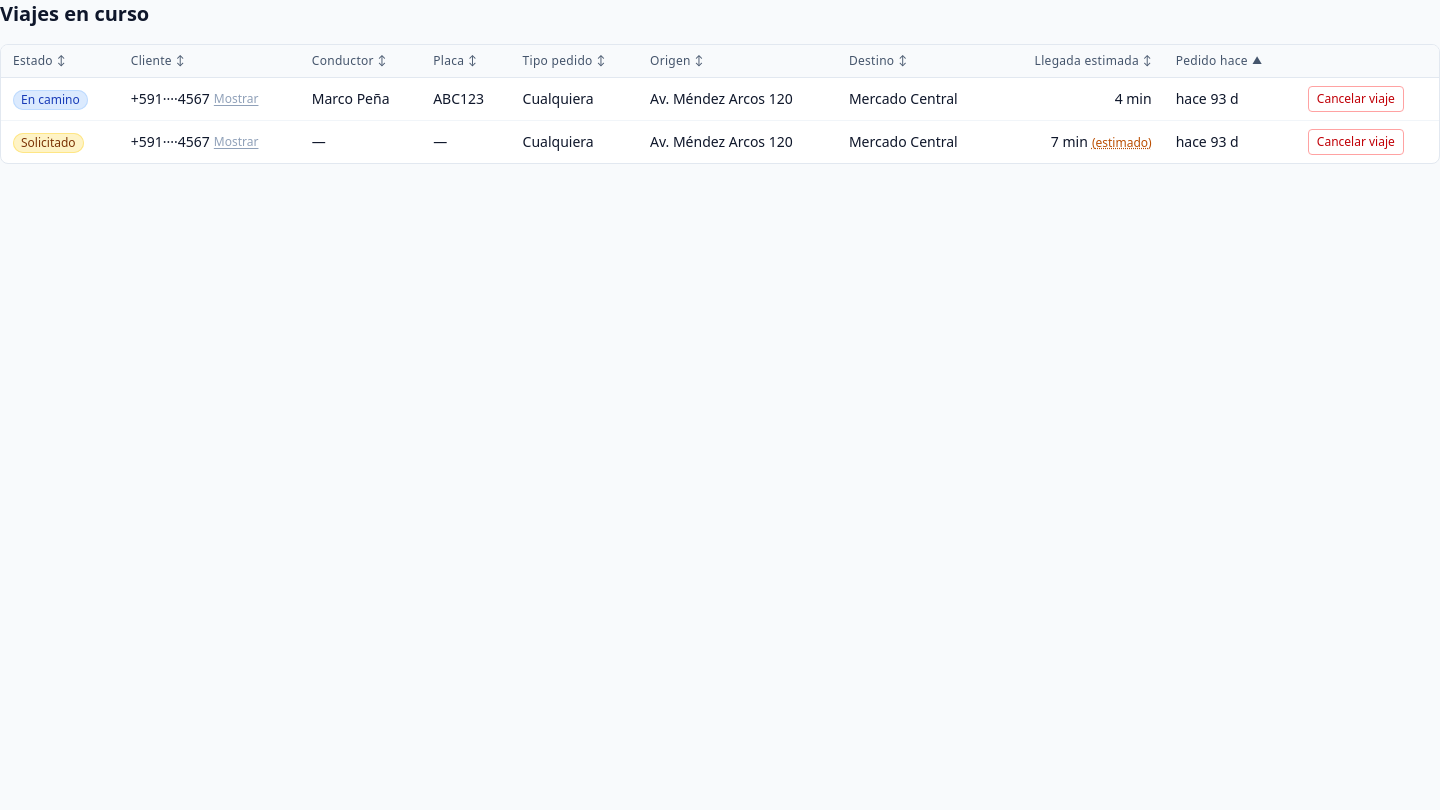
Test case: cancelación forzada › un 409 informa que el viaje ya terminó, no un error genérico
Click the button "Cancelar viaje" in the row of "En camino" at (1356, 99), box [1308,86,1404,112]
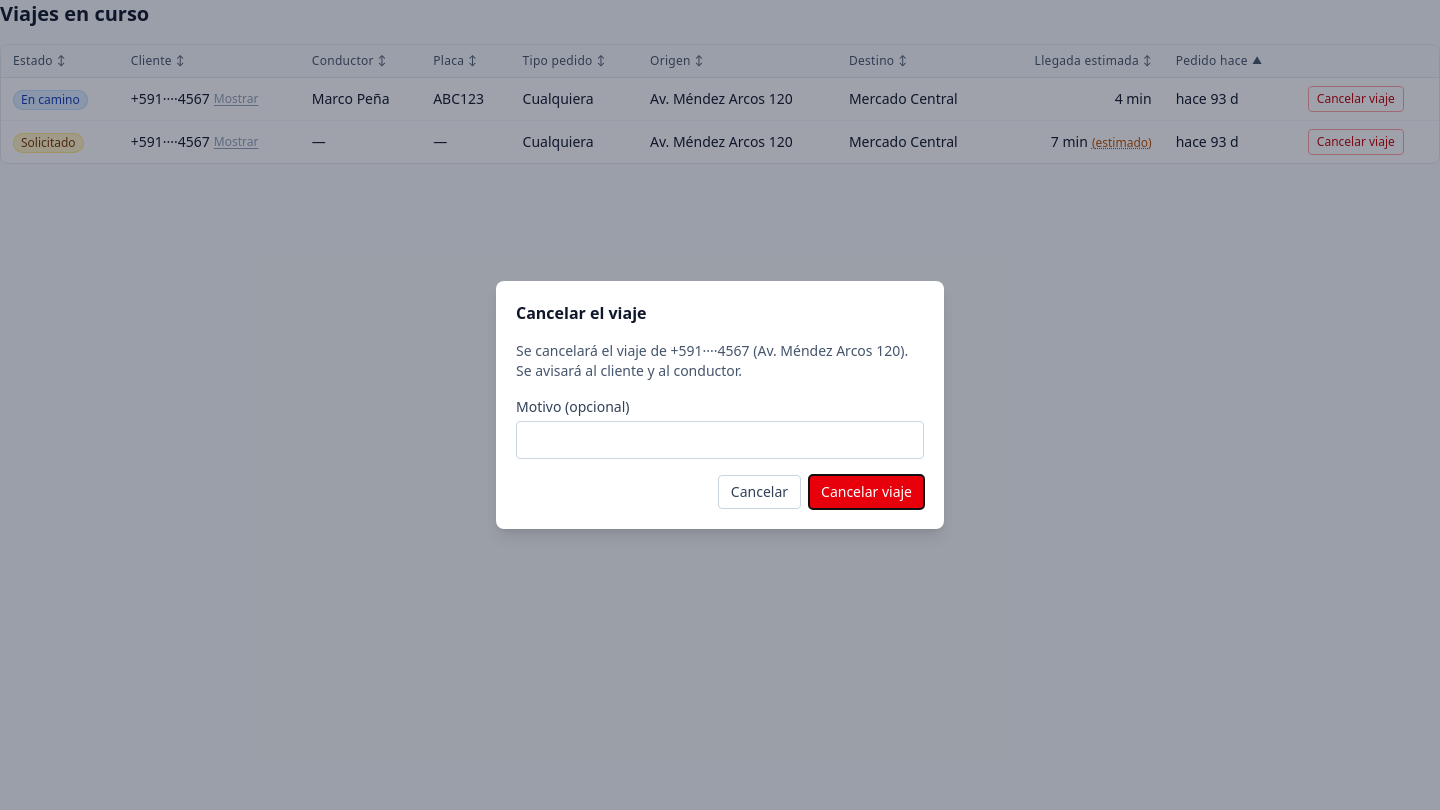
Click the button "Cancelar viaje" at (866, 492), box [809,475,924,509]
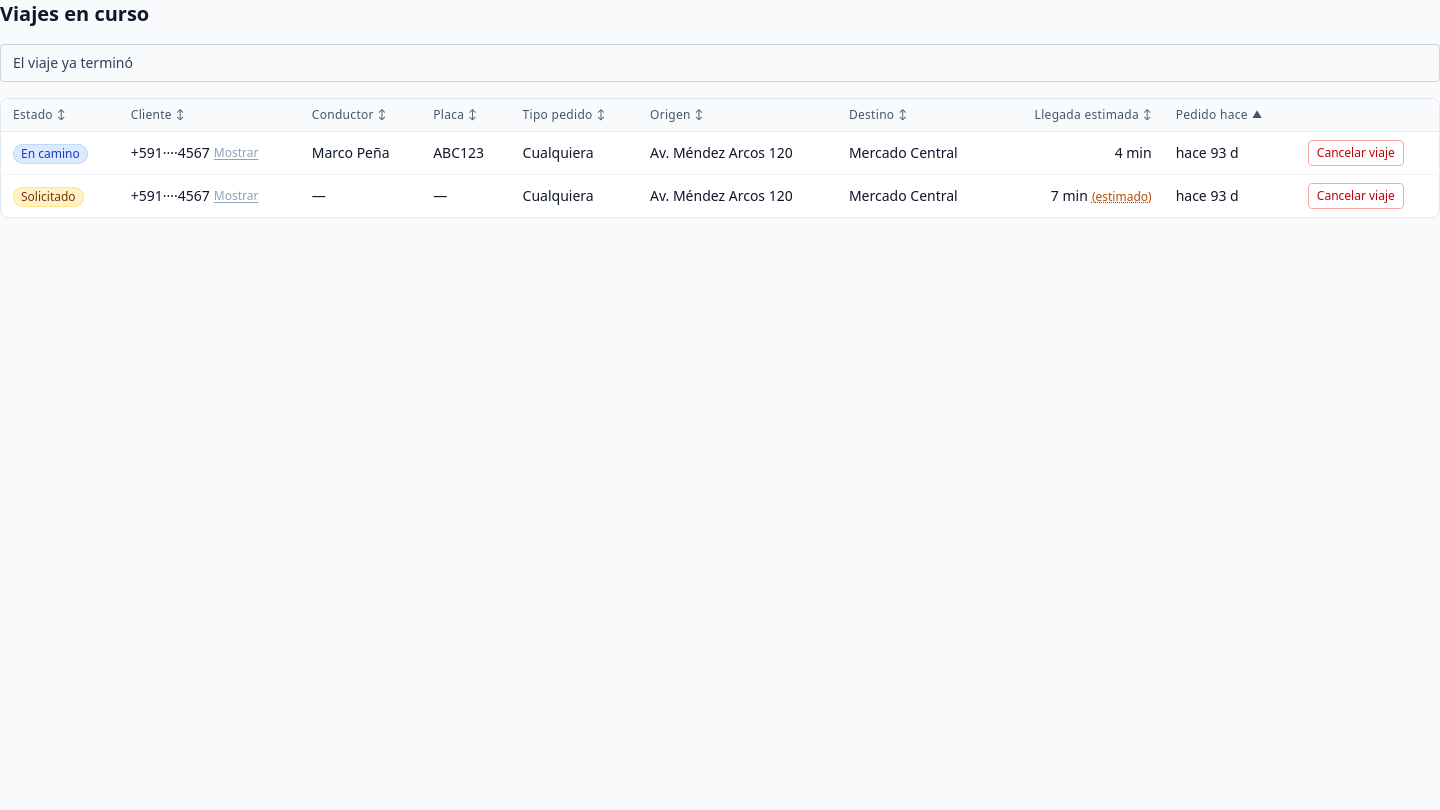
Result: the message reads "El viaje ya terminó" at [13,53,133,72]
Result: the dialog is gone
